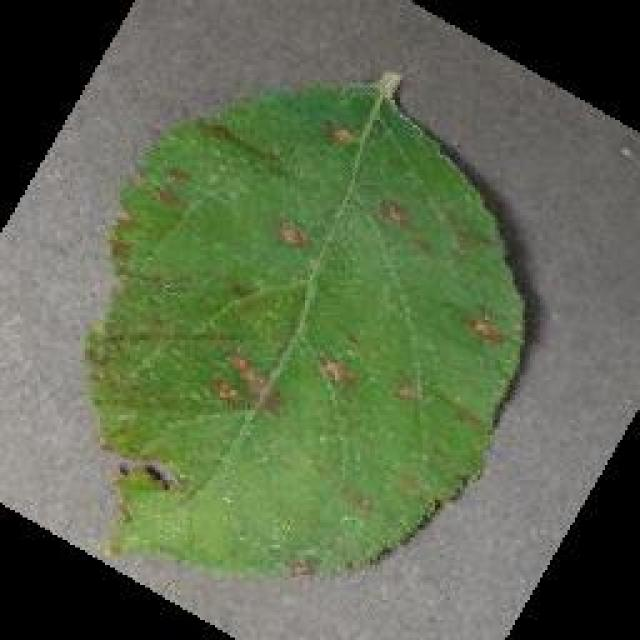apple healthy: (80, 68, 530, 580)
